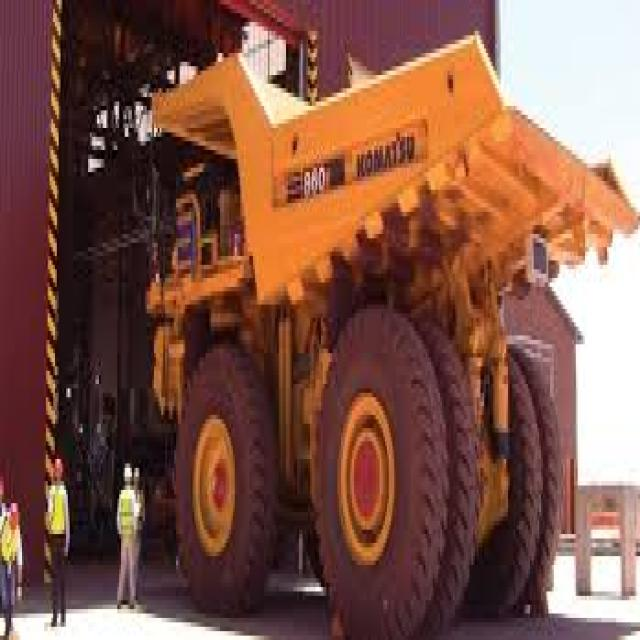dump_truck: (121, 44, 638, 636)
